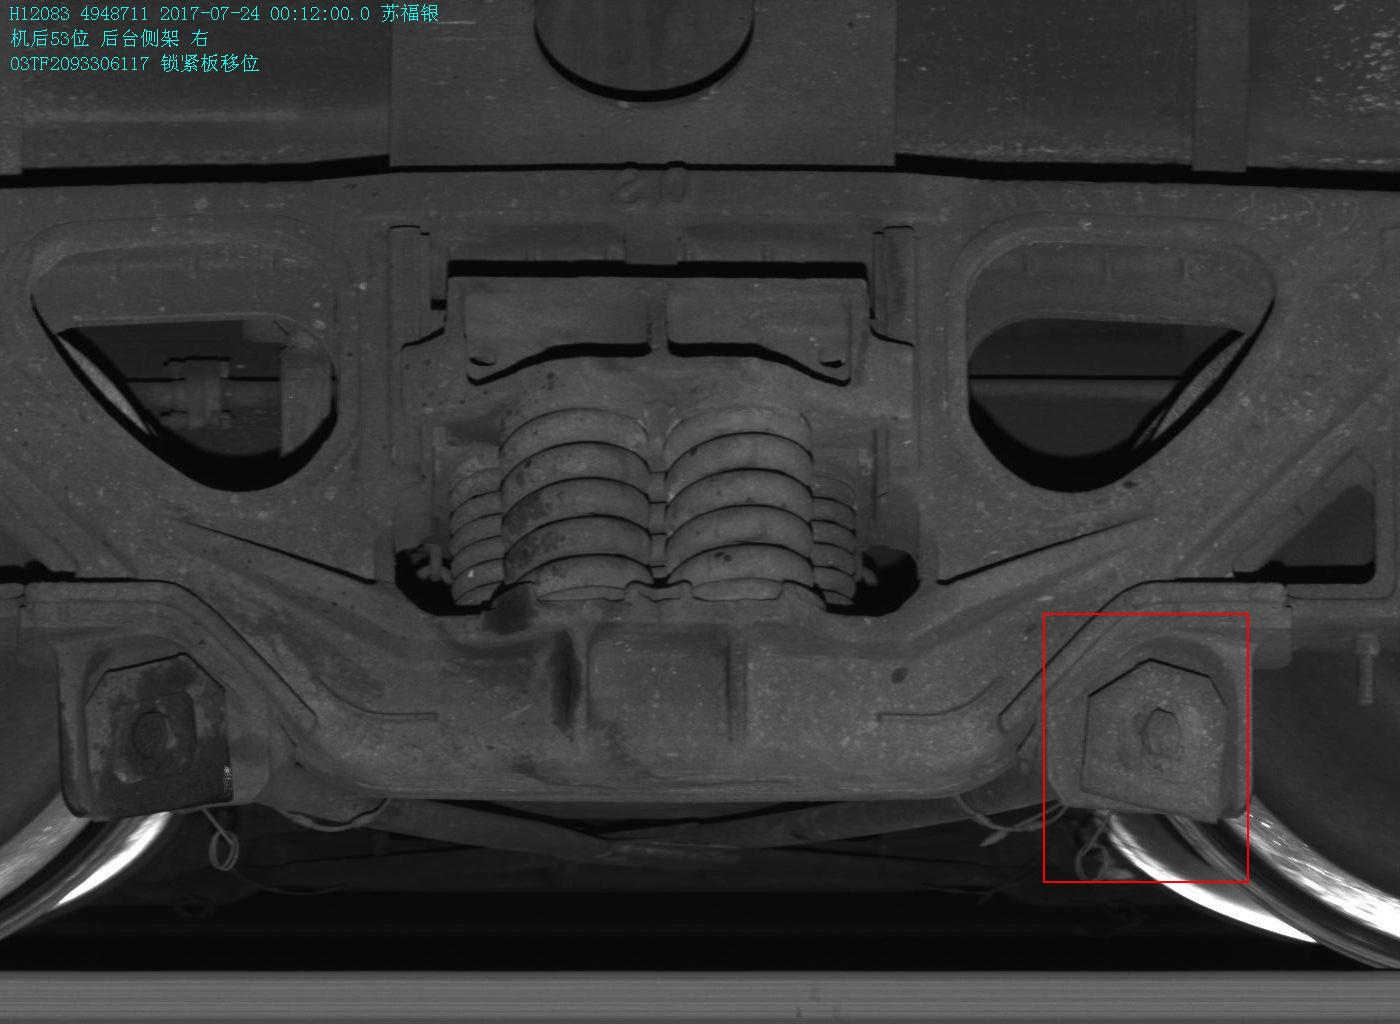Locking plate: (1041, 616, 1252, 828)
normal: (61, 600, 270, 826)
